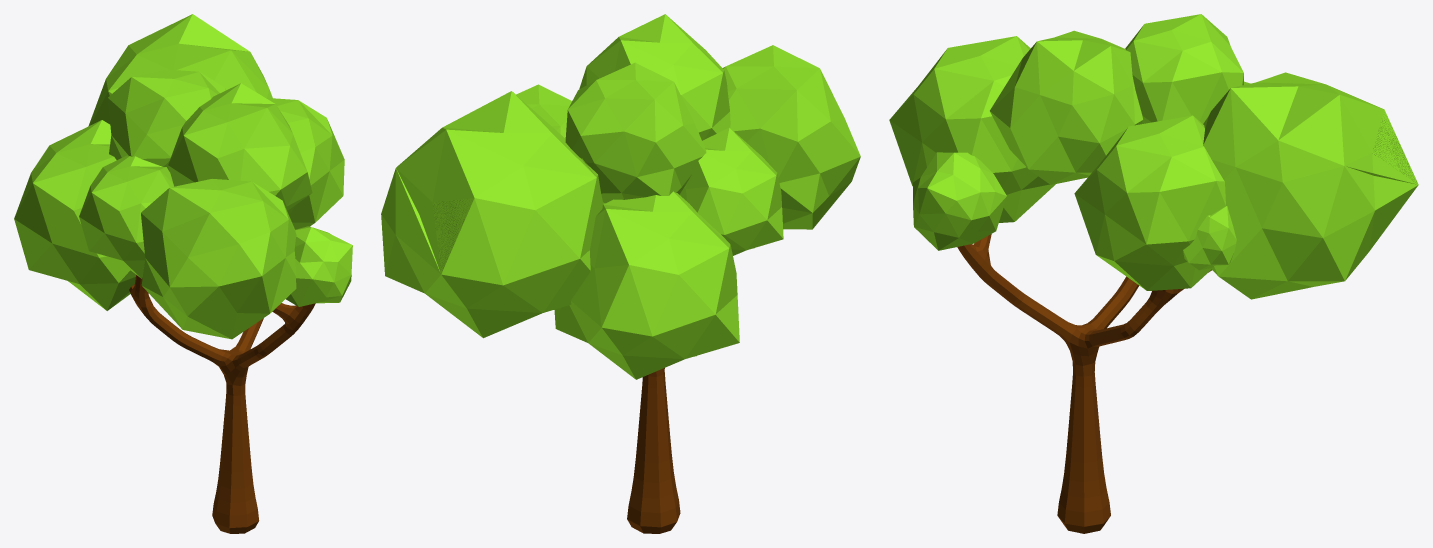
File: tree2.fbx
3 views of the same model, side by side, from view 1: azimuth 30°, elevation 25°; view 2: azimuth 150°, elevation 25°; view 3: azimuth 270°, elevation 25° (orthographic). The views are drawn at different scales.
Visible parts, largest first — view 1: Tree, Tree.001; view 2: Tree, Tree.001; view 3: Tree, Tree.001.
Boxes of the visible parts, x1=… form: Tree: x1=14, y1=14, x2=352, y2=339; Tree.001: x1=129, y1=275, x2=315, y2=533; Tree: x1=381, y1=14, x2=860, y2=379; Tree.001: x1=627, y1=368, x2=680, y2=533; Tree: x1=889, y1=14, x2=1418, y2=299; Tree.001: x1=957, y1=234, x2=1211, y2=533.
Bounding box in the file's own units: 1039 × 1556 × 1512.
